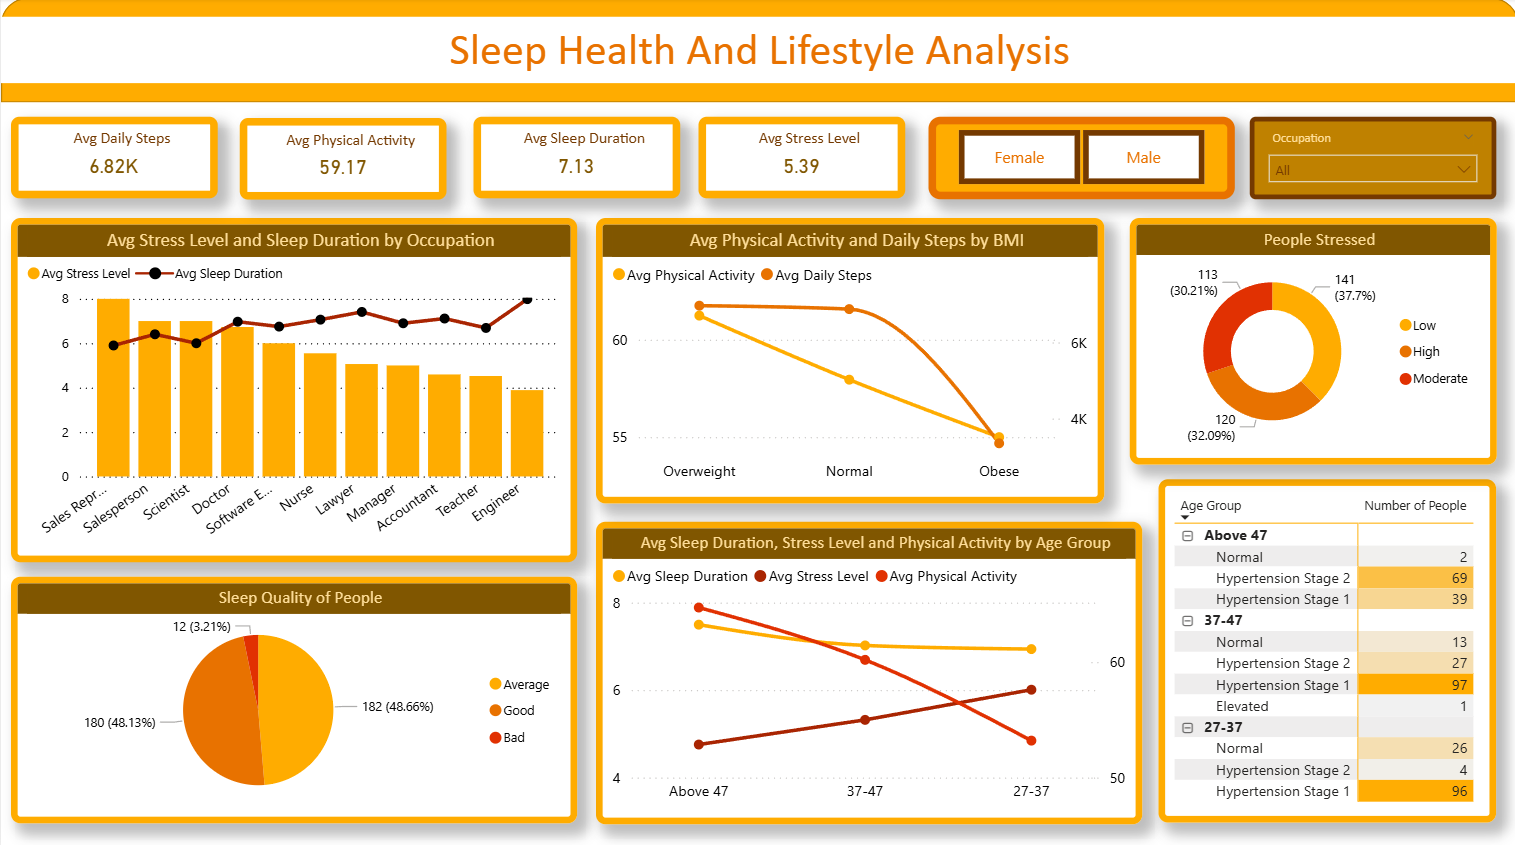

Layout of this report page (visuals, bound fields, positions):
{"tool":"powerbi","page":{"name":"Page 1","canvas":[1280,720],"ordinal":0},"visuals":[{"type":"slicer","fields":{"Values":["Sleep_health_and_lifestyle_dataset.Gender"]},"box":[782.6,100,258.1,69.8],"z":0},{"type":"slicer","fields":{"Values":["Sleep_health_and_lifestyle_dataset.Occupation"]},"box":[1053.4,100.2,207.7,69.6],"z":1000},{"type":"lineClusteredColumnComboChart","title":"Avg Stress Level and Sleep Duration by Occupation","fields":{"Category":["Sleep_health_and_lifestyle_dataset.Occupation"],"Y":["Sleep_health_and_lifestyle_dataset.Avg Stress Level"],"Y2":["Sleep_health_and_lifestyle_dataset.Avg Sleep Duration"]},"box":[8.1,186,477.9,290.7],"z":2000},{"type":"lineChart","title":"Avg Sleep Duration, Stress Level and Physical Activity by Age Group","fields":{"Y":["Sleep_health_and_lifestyle_dataset.Avg Sleep Duration","Sleep_health_and_lifestyle_dataset.Avg Stress Level"],"Category":["Sleep_health_and_lifestyle_dataset.Age Group"],"Y2":["Sleep_health_and_lifestyle_dataset.Avg Physical Activity"]},"box":[501.9,441.8,460.8,255.2],"z":3000},{"type":"lineChart","title":"Avg Physical Activity and Daily Steps by BMI","fields":{"Category":["Sleep_health_and_lifestyle_dataset.BMI Category"],"Y":["Sleep_health_and_lifestyle_dataset.Avg Physical Activity"],"Y2":["Sleep_health_and_lifestyle_dataset.Avg Daily Steps"]},"box":[502.3,186,429.1,240.7],"z":4000},{"type":"pivotTable","fields":{"Rows":["Sleep_health_and_lifestyle_dataset.Age Group","Sleep_health_and_lifestyle_dataset.Blood Pressure"],"Values":["CountNonNull(Sleep_health_and_lifestyle_dataset.Person ID)"]},"box":[976.5,406,284.7,290],"z":5000},{"type":"donutChart","title":"People Stressed","fields":{"Category":["Sleep_health_and_lifestyle_dataset.Stress "],"Y":["CountNonNull(Sleep_health_and_lifestyle_dataset.Person ID)"]},"box":[952.3,186,309.3,208.1],"z":6000},{"type":"shape","box":[0,0,1280,88.1],"z":7000},{"type":"textbox","box":[0,15.8,1280.1,55.9],"z":8000},{"type":"card","title":"Avg Daily Steps","fields":{"Values":["Sleep_health_and_lifestyle_dataset.Avg Daily Steps"]},"box":[8.1,100,174.4,68.6],"z":9000},{"type":"card","title":"Avg Physical Activity","fields":{"Values":["Sleep_health_and_lifestyle_dataset.Avg Physical Activity"]},"box":[201.2,101.2,174.4,68.6],"z":10000},{"type":"card","title":"Avg Sleep Duration","fields":{"Values":["Sleep_health_and_lifestyle_dataset.Avg Sleep Duration"]},"box":[398.8,100,174.4,68.6],"z":11000},{"type":"card","title":"Avg Stress Level","fields":{"Values":["Sleep_health_and_lifestyle_dataset.Avg Stress Level"]},"box":[588.4,100,174.4,68.6],"z":12000},{"type":"pieChart","title":"Sleep Quality of People","fields":{"Category":["Sleep_health_and_lifestyle_dataset.Sleep Rating"],"Y":["CountNonNull(Sleep_health_and_lifestyle_dataset.Person ID)"]},"box":[8.1,488.4,477.9,208.1],"z":13000}]}

Visuals, with their boxes in screenshot pixels (x1, y1, x2, y2), scaled from the page's 1280x720 canvas onto the 1515x845 screenshot:
slicer - Sleep_health_and_lifestyle_dataset.Gender: bbox=[926, 117, 1232, 199]
slicer - Sleep_health_and_lifestyle_dataset.Occupation: bbox=[1247, 118, 1493, 199]
"Avg Stress Level and Sleep Duration by Occupation" lineClusteredColumnComboChart: bbox=[10, 218, 575, 559]
"Avg Sleep Duration, Stress Level and Physical Activity by Age Group" lineChart: bbox=[594, 519, 1139, 818]
"Avg Physical Activity and Daily Steps by BMI" lineChart: bbox=[595, 218, 1102, 501]
pivotTable - Sleep_health_and_lifestyle_dataset.Age Group x Sleep_health_and_lifestyle_dataset.Blood Pressure: bbox=[1156, 476, 1493, 817]
"People Stressed" donutChart: bbox=[1127, 218, 1493, 463]
shape: bbox=[0, 0, 1514, 103]
textbox: bbox=[0, 19, 1514, 84]
"Avg Daily Steps" card: bbox=[10, 117, 216, 198]
"Avg Physical Activity" card: bbox=[238, 119, 445, 199]
"Avg Sleep Duration" card: bbox=[472, 117, 678, 198]
"Avg Stress Level" card: bbox=[696, 117, 903, 198]
"Sleep Quality of People" pieChart: bbox=[10, 573, 575, 817]
